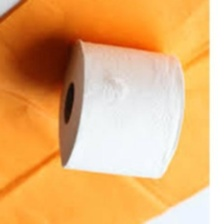tissue: (52, 35, 189, 185)
